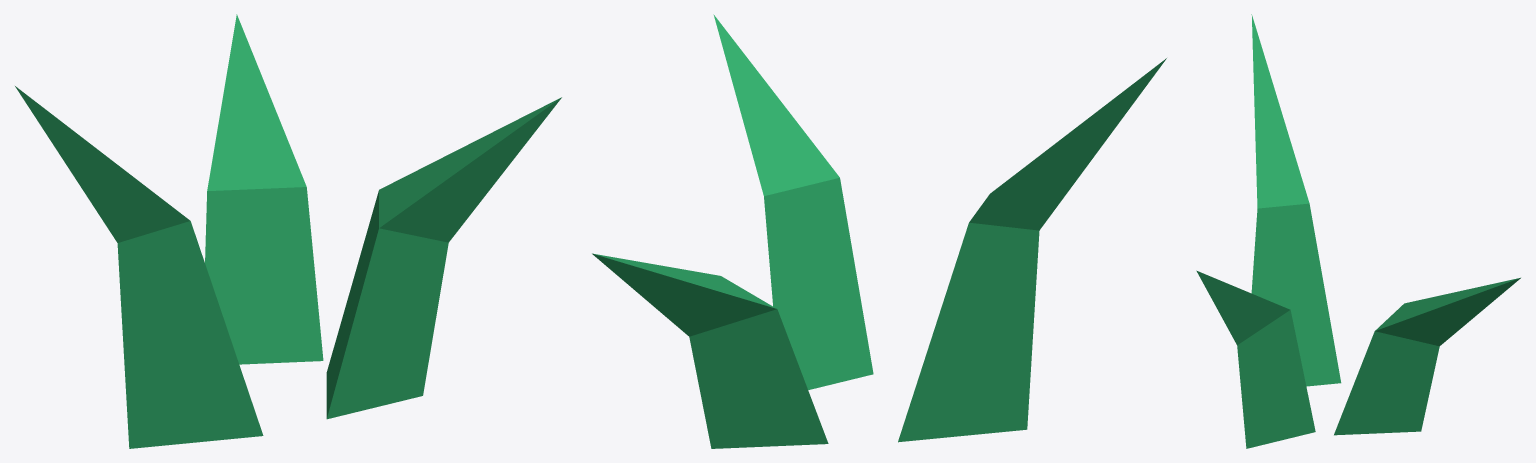
Rendered from grass3.glb.
The picture shows the model from 3 angles, left to right: view 1: azimuth 30°, elevation 25°; view 2: azimuth 150°, elevation 25°; view 3: azimuth 270°, elevation 25°; orthographic projection. The views are drawn at different scales.
Visible parts, largest first — view 1: Circle015_Grass_0; view 2: Circle015_Grass_0; view 3: Circle015_Grass_0.
Part boxes in pixels (x1,y1,x2,y2): Circle015_Grass_0: [15, 14, 561, 448]; Circle015_Grass_0: [592, 14, 1166, 448]; Circle015_Grass_0: [1196, 14, 1520, 448].
Size of the model in its own units: 9.16 by 6.99 by 7.04.
